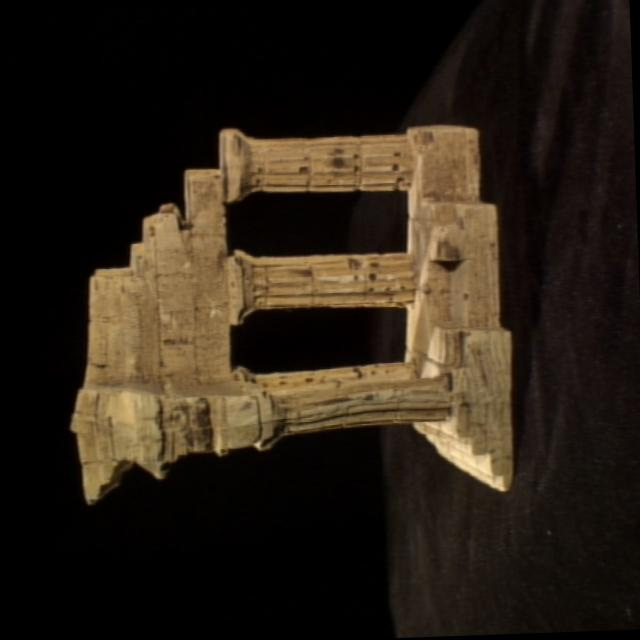Instance-Segmentation: (71, 126, 511, 501)
